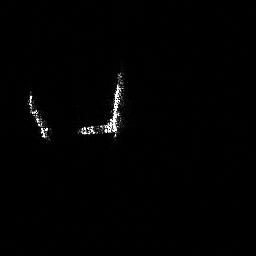ship: (74, 70, 127, 139), (22, 87, 56, 145)
